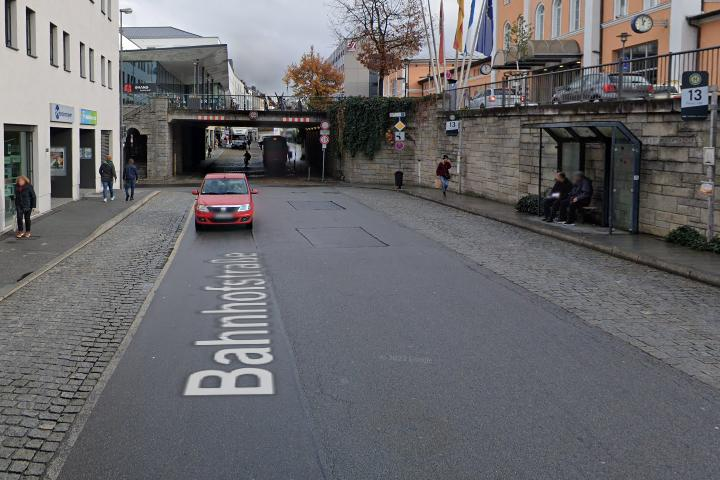traffic_sign: (394, 131, 406, 142), (394, 121, 406, 131)
vehicle: (547, 65, 660, 113), (191, 168, 262, 232), (466, 87, 522, 112)
